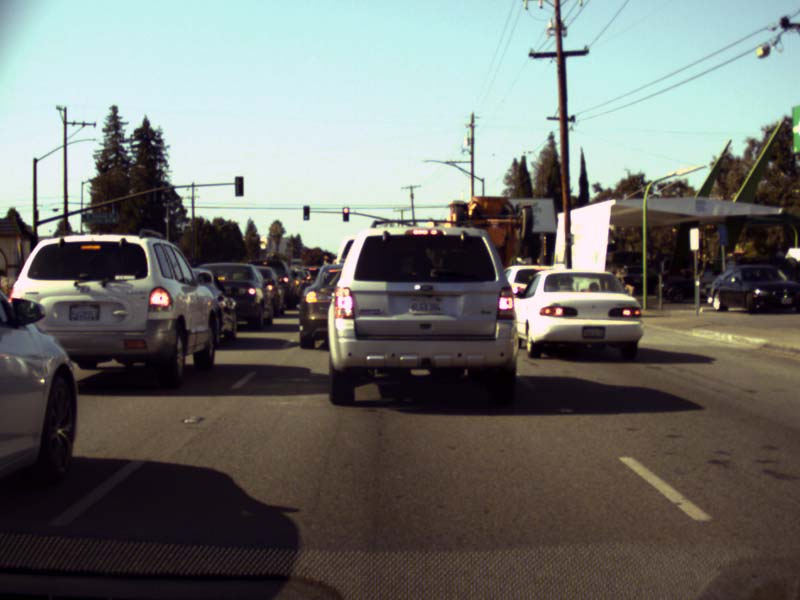Green: (303, 206, 309, 219)
Red: (342, 207, 348, 220)
